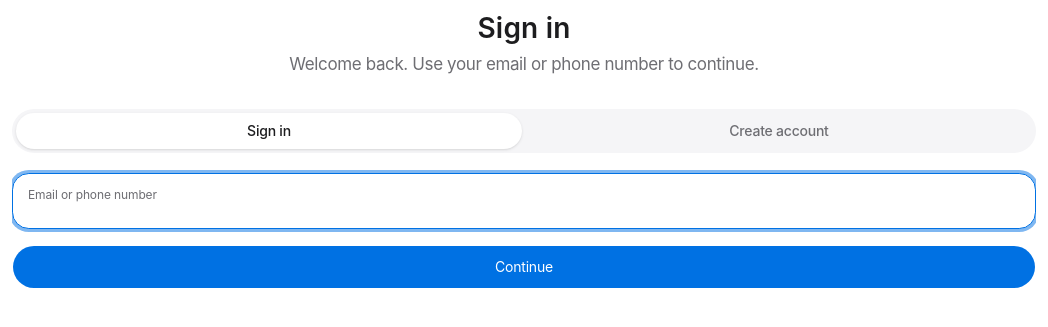
SignInFlow with a phone number › goes back with the number kept when Edit is pressed
Type "+1 415 555 2671" into the field labelled "Email or phone number" at (524, 201), box [12,173,1036,229]
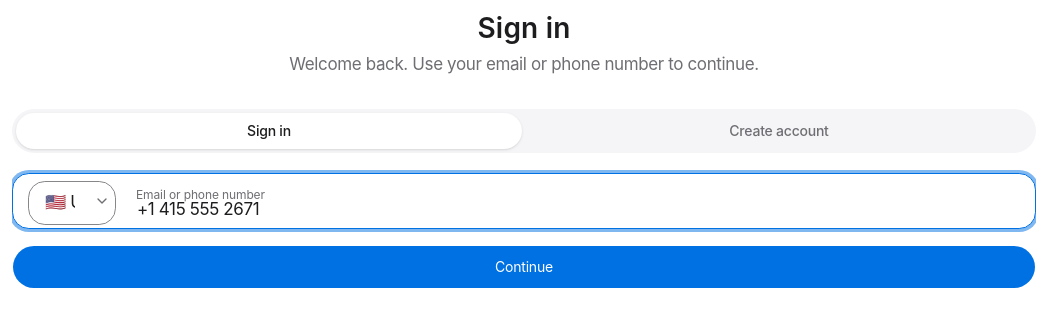
Click the button "Continue" at (524, 267), box [12,245,1036,289]
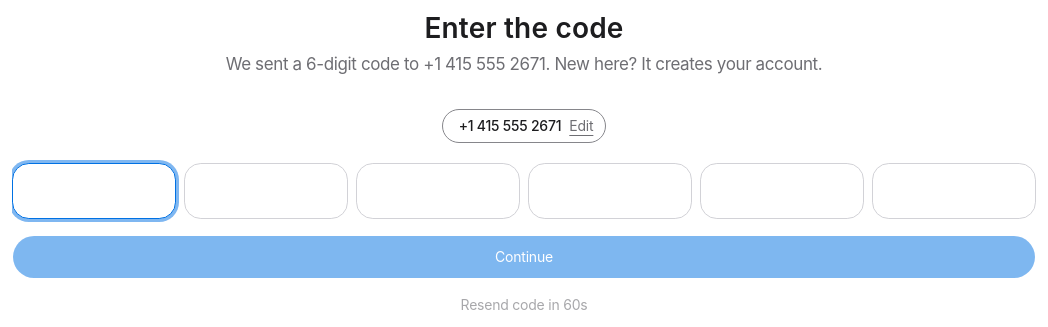
Click the button with aria-label "Change " at (524, 126), box [442,109,606,143]
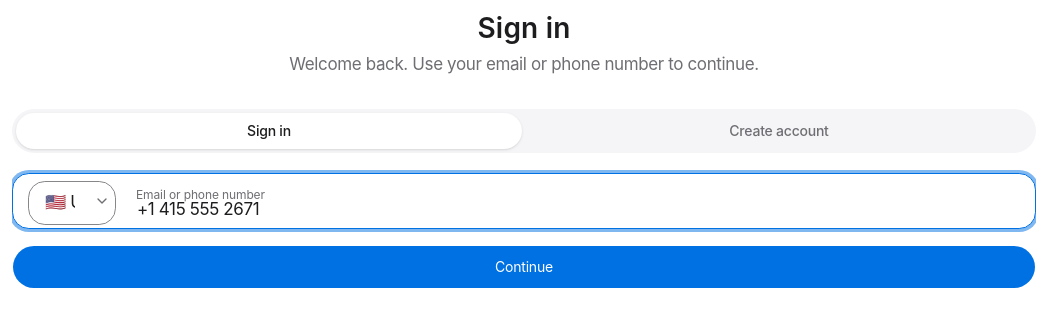
Check: the field labelled "Email or phone number" holds "+1 415 555 2671", box [12,173,1036,229]
